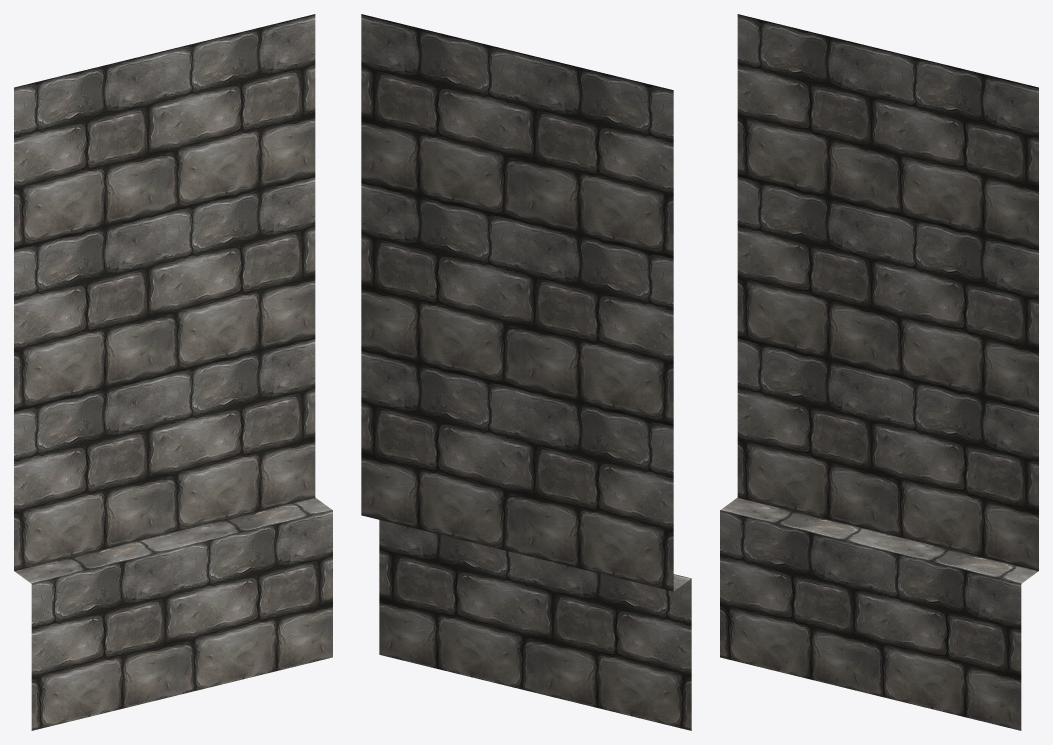
File: Castle Wall Middle 1.FBX
3 views of the same model, side by side, from view 1: azimuth 30°, elevation 25°; view 2: azimuth 150°, elevation 25°; view 3: azimuth 330°, elevation 25° (orthographic). The views are drawn at different scales.
Parts seen in each view (by area): view 1: Plane002; view 2: Plane002; view 3: Plane002.
Boxes of the visible parts, x1,y1,x2,y2 form: Plane002: [14, 14, 332, 730]; Plane002: [361, 14, 691, 730]; Plane002: [720, 14, 1038, 730].
Bounding box in the file's own units: 100 × 200 × 10.
1 material, 1 textured.
